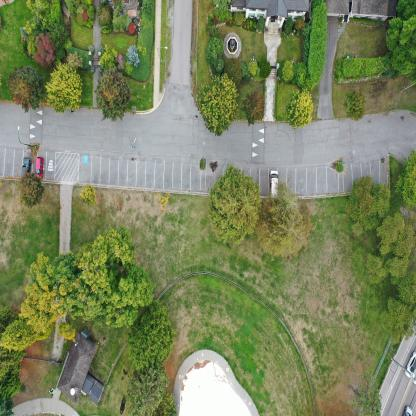Coniferous Tree: (208, 157, 259, 244), (263, 186, 308, 258), (133, 298, 173, 368), (386, 272, 416, 346), (123, 373, 174, 416), (382, 211, 411, 280), (350, 176, 387, 226), (6, 64, 42, 112), (0, 309, 52, 342), (350, 375, 388, 416), (94, 72, 132, 109), (0, 339, 19, 413), (398, 156, 416, 204), (17, 173, 42, 201)
Deciduous Tree: (84, 242, 151, 321), (18, 262, 90, 327), (386, 0, 416, 77), (199, 74, 240, 130), (47, 68, 83, 109), (290, 87, 316, 128), (33, 36, 55, 64), (78, 180, 97, 206)
